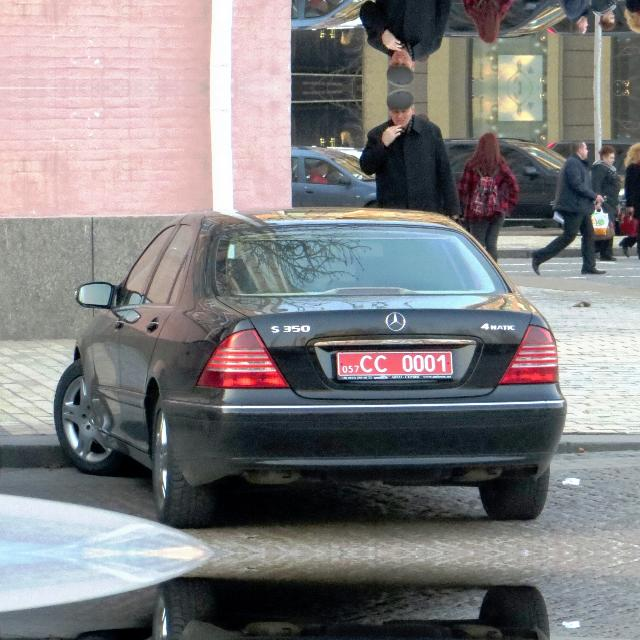diplomatic: (330, 343, 460, 389)
